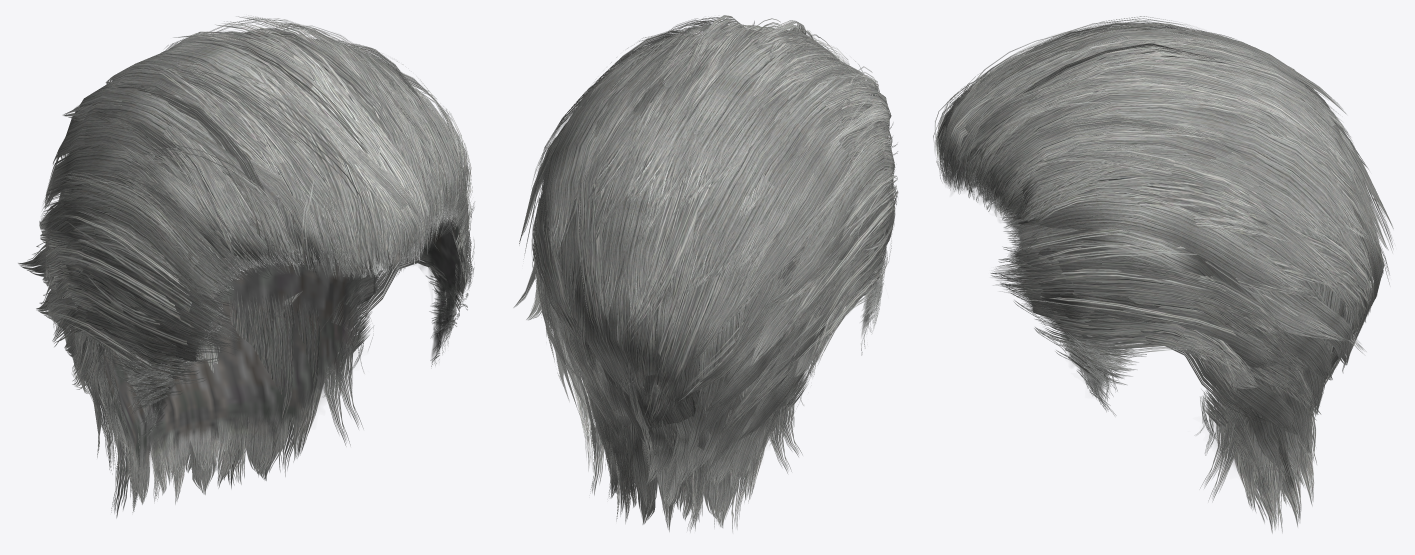
The model's file is hair003.glb.
The picture shows the model from 3 angles, left to right: view 1: azimuth 30°, elevation 25°; view 2: azimuth 150°, elevation 25°; view 3: azimuth 270°, elevation 25°; orthographic projection. The views are drawn at different scales.
Parts seen in each view (by area): view 1: hair, scalp, hair2; view 2: hair, hair2; view 3: hair, hair2, scalp.
Part boxes in pixels (x1,y1,x2,y2): hair: (18,15,474,518); scalp: (71,189,463,473); hair2: (63,184,467,504); hair: (513,15,898,532); hair2: (556,166,888,520); hair: (933,16,1393,533); hair2: (967,131,1353,510); scalp: (943,170,1239,466).
Bounding box in the file's own units: 0.1445 × 0.204 × 0.179.
2 materials, 2 textured.
